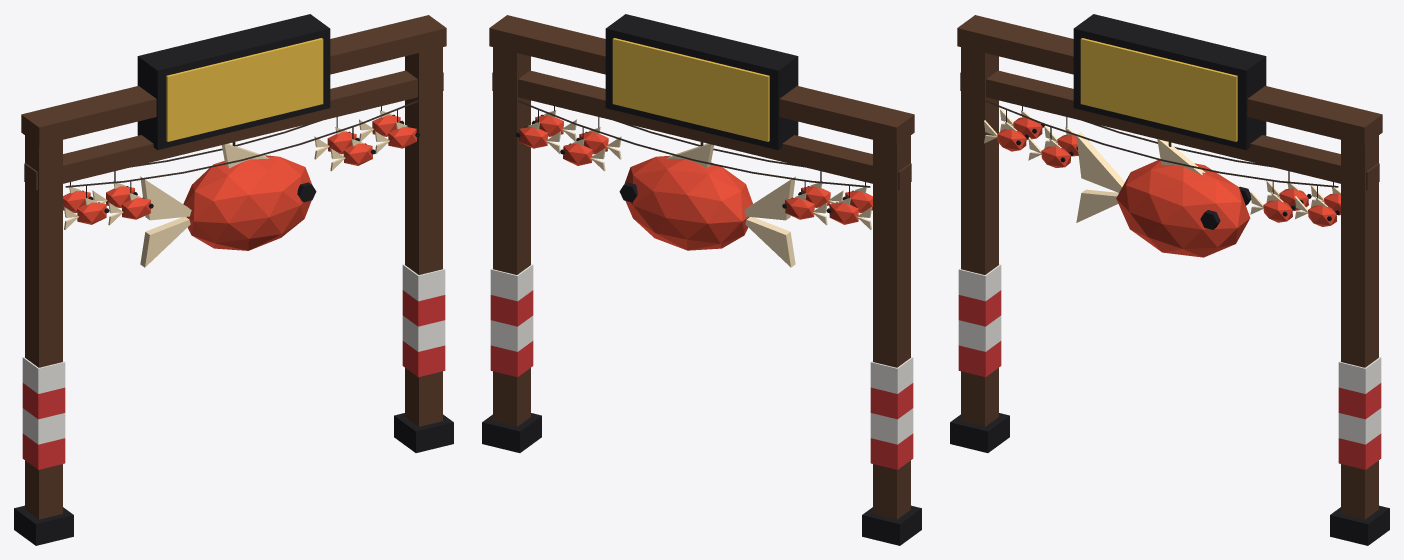
File: kingyo-gate.glb
The picture shows the model from 3 angles, left to right: view 1: azimuth 30°, elevation 25°; view 2: azimuth 150°, elevation 25°; view 3: azimuth 330°, elevation 25°; orthographic projection.
Visible parts, largest first — view 1: KingyoGate_Posts, KingyoGate_Fish, KingyoGate_Beam, KingyoGate_Board, KingyoGate_KohakuW, KingyoGate_KohakuR, KingyoGate_Fin, KingyoGate_Wire; view 2: KingyoGate_Posts, KingyoGate_Fish, KingyoGate_Beam, KingyoGate_Board, KingyoGate_KohakuW, KingyoGate_KohakuR, KingyoGate_Fin, KingyoGate_Wire; view 3: KingyoGate_Posts, KingyoGate_Fish, KingyoGate_Beam, KingyoGate_Board, KingyoGate_Fin, KingyoGate_KohakuW, KingyoGate_KohakuR, KingyoGate_Wire, KingyoGate_Eye.
Boxes of the visible parts, x1=… form: KingyoGate_Posts: x1=21, y1=15, x2=446, y2=519; KingyoGate_Fish: x1=63, y1=115, x2=416, y2=250; KingyoGate_Beam: x1=14, y1=14, x2=453, y2=545; KingyoGate_Board: x1=166, y1=38, x2=323, y2=141; KingyoGate_KohakuW: x1=22, y1=264, x2=445, y2=444; KingyoGate_KohakuR: x1=22, y1=290, x2=445, y2=469; KingyoGate_Fin: x1=64, y1=110, x2=407, y2=267; KingyoGate_Wire: x1=65, y1=100, x2=418, y2=198; KingyoGate_Posts: x1=489, y1=15, x2=914, y2=519; KingyoGate_Fish: x1=519, y1=115, x2=872, y2=250; KingyoGate_Beam: x1=482, y1=14, x2=921, y2=545; KingyoGate_Board: x1=612, y1=38, x2=769, y2=141; KingyoGate_KohakuW: x1=490, y1=264, x2=913, y2=444; KingyoGate_KohakuR: x1=490, y1=290, x2=913, y2=469; KingyoGate_Fin: x1=528, y1=110, x2=871, y2=267; KingyoGate_Wire: x1=517, y1=100, x2=870, y2=198; KingyoGate_Posts: x1=957, y1=15, x2=1382, y2=519; KingyoGate_Fish: x1=997, y1=117, x2=1340, y2=257; KingyoGate_Beam: x1=950, y1=14, x2=1389, y2=545; KingyoGate_Board: x1=1080, y1=38, x2=1237, y2=141; KingyoGate_Fin: x1=984, y1=108, x2=1340, y2=222; KingyoGate_KohakuW: x1=958, y1=264, x2=1381, y2=444; KingyoGate_KohakuR: x1=958, y1=290, x2=1381, y2=469; KingyoGate_Wire: x1=985, y1=100, x2=1338, y2=198; KingyoGate_Eye: x1=1016, y1=124, x2=1340, y2=229.
Size of the model in its own units: 24.2 by 24.6 by 4.38.
